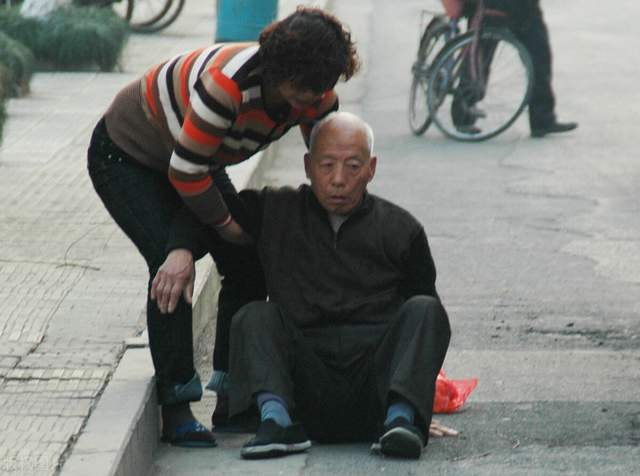falling: (216, 110, 442, 463)
standing: (85, 13, 302, 333)
